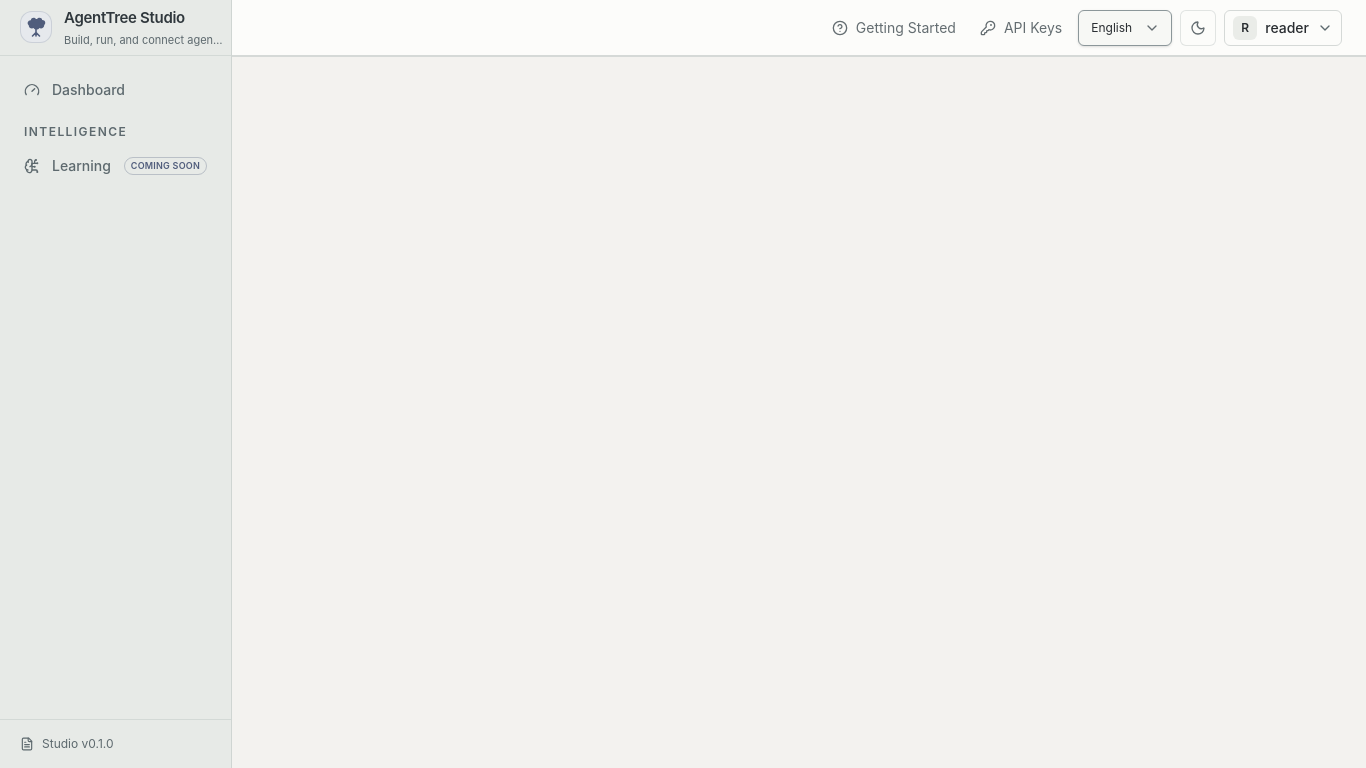
Test case: keeps restricted resource/admin routes hidden while preserving account API Keys
Click the button with aria-label "Account menu" at (1283, 28), box [1224,10,1342,46]
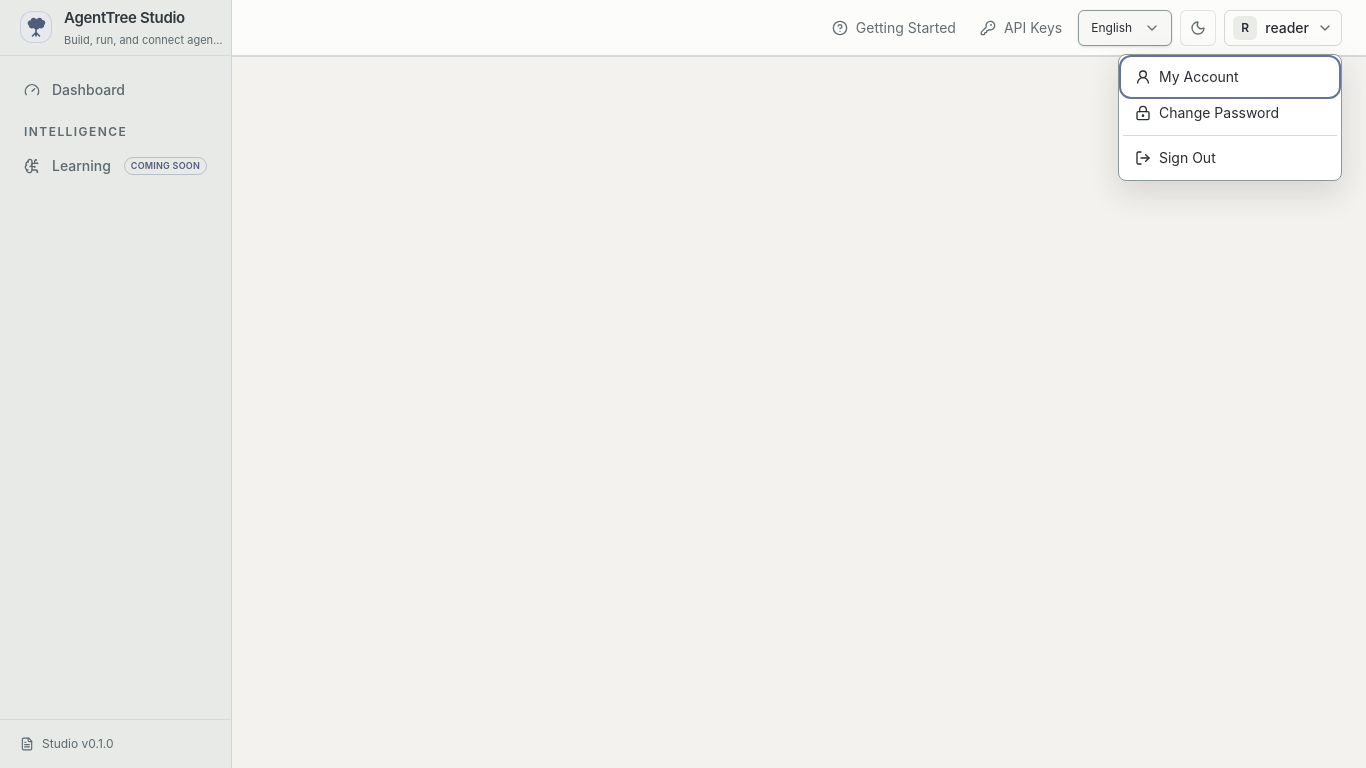
Press Escape in the menu, box [1118,54,1342,180]
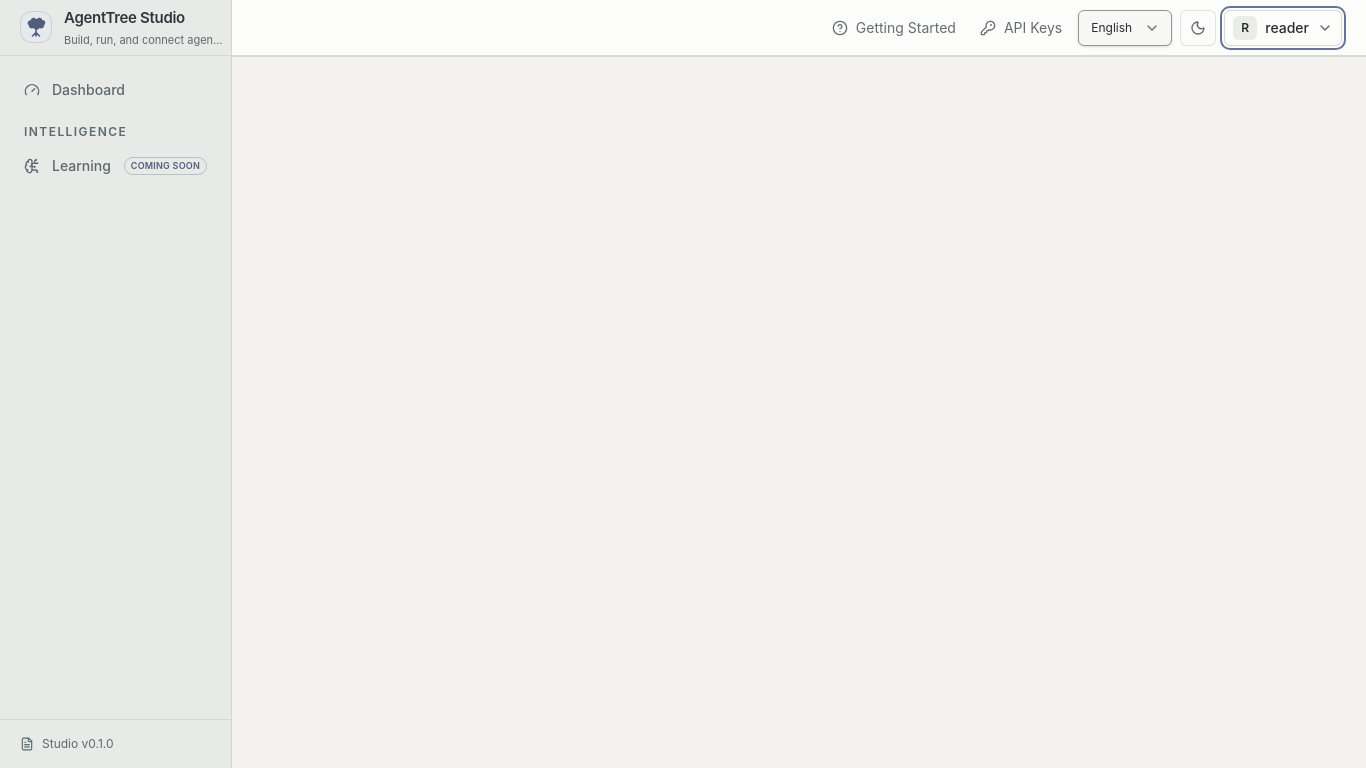
Result: the menu is gone
